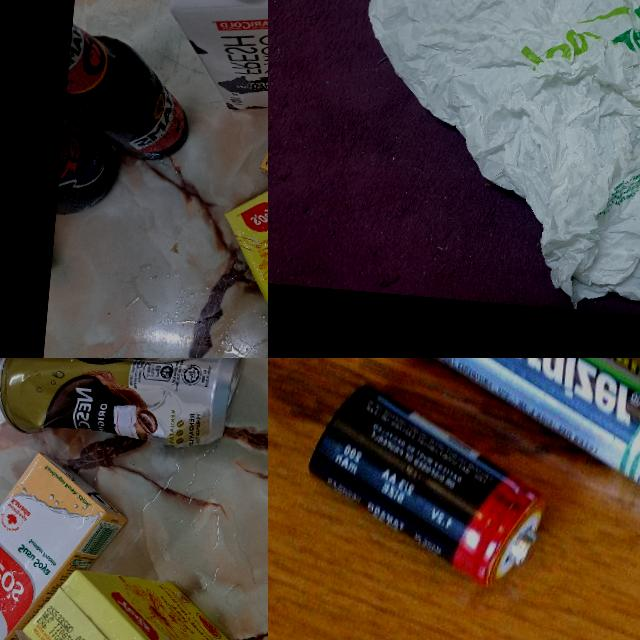bateria: (296, 377, 557, 595), (393, 358, 640, 538)
caixinha: (0, 439, 141, 640), (19, 565, 244, 640), (136, 0, 268, 118), (213, 173, 268, 358)
garrafa de vidro: (61, 18, 198, 161)
lata: (0, 358, 247, 454)
sacola plástica: (341, 0, 640, 324)
